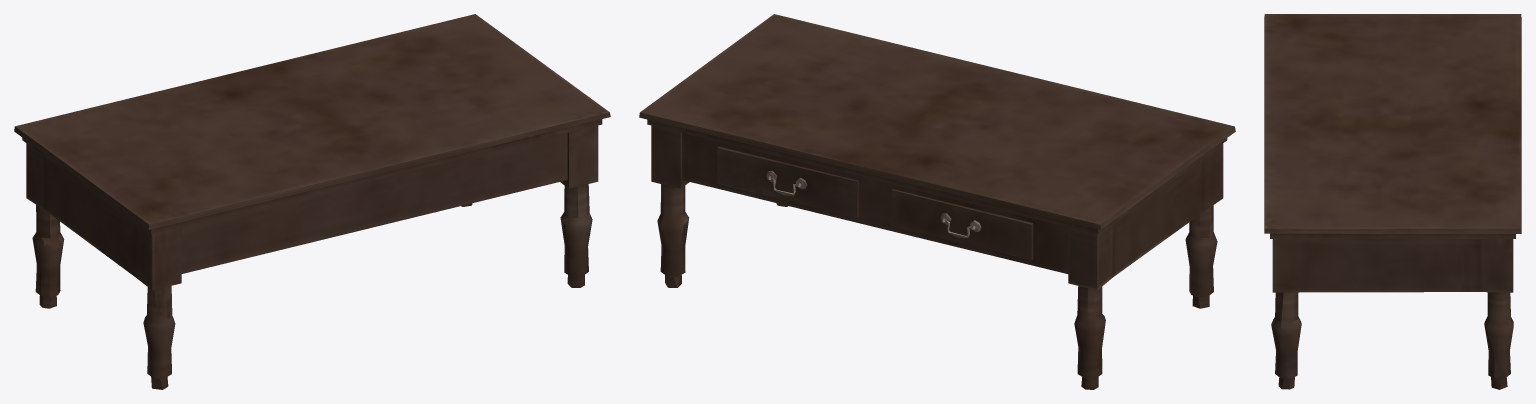
The model's file is table-coffee.lod1.glb.
3 views of the same model, side by side, from view 1: azimuth 30°, elevation 25°; view 2: azimuth 150°, elevation 25°; view 3: azimuth 270°, elevation 25° (orthographic). The views are drawn at different scales.
Visible parts, largest first — view 1: table-coffee; view 2: table-coffee; view 3: table-coffee.
Part boxes in pixels (x1,y1,x2,y2): table-coffee: (14, 14, 610, 389); table-coffee: (639, 14, 1235, 389); table-coffee: (1264, 14, 1521, 389).
Size of the model in its own units: 1.3 by 0.4736 by 0.658.
Materials: 1 (1 with a texture image).
